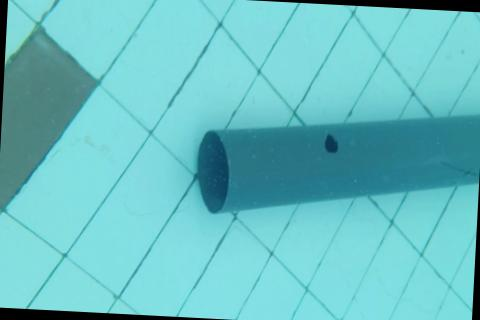kebocoran: (323, 133, 340, 154)
keretakan: (442, 160, 480, 178)
